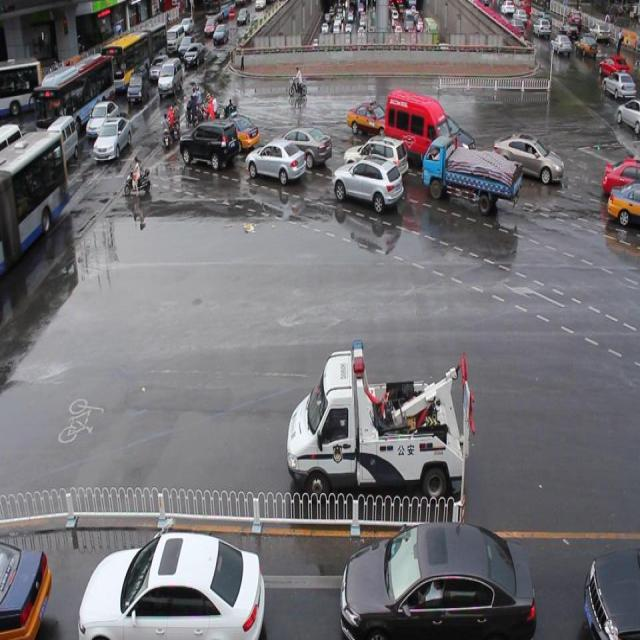bus: (285, 338, 464, 498), (421, 134, 519, 212)
car: (490, 129, 562, 186), (332, 156, 403, 213), (406, 107, 474, 164), (342, 132, 408, 184), (266, 123, 332, 169), (244, 137, 305, 183), (346, 99, 398, 140), (604, 179, 640, 230), (213, 114, 259, 152), (601, 156, 640, 200)
truck: (385, 88, 456, 164), (179, 118, 237, 168)
